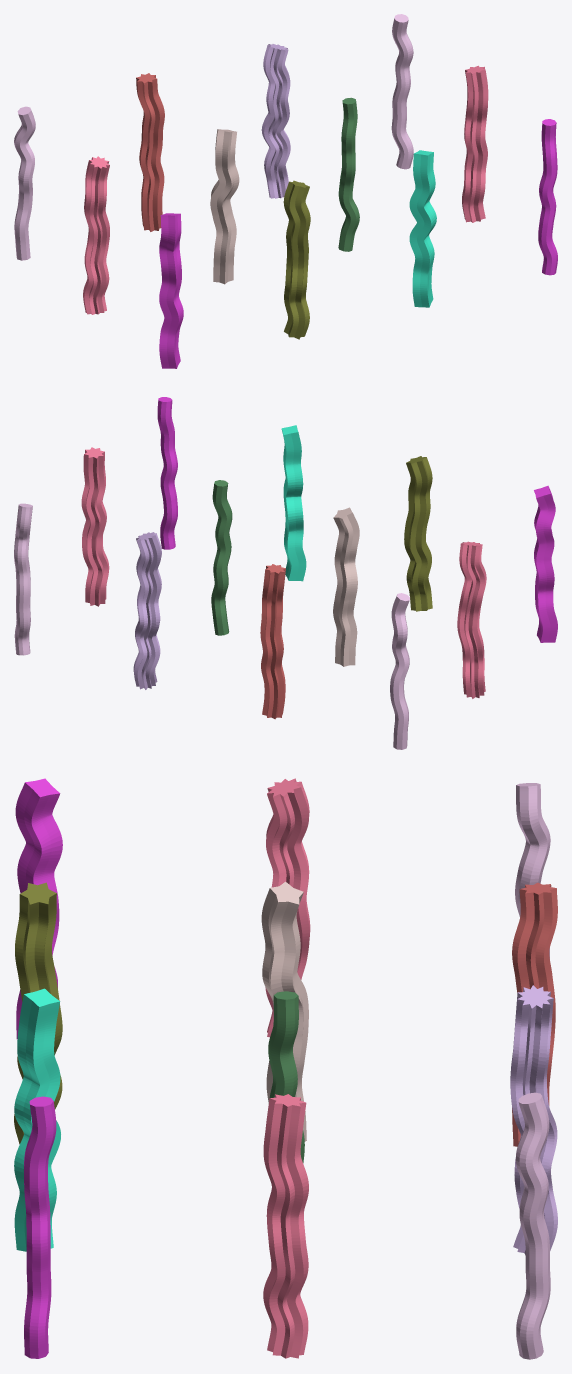
The model's file is lambert_mats_1_OpenedSplineTest_2023-06-04-21-23-00.gltf.
3 views of the same model, one above another, from view 1: azimuth 30°, elevation 25°; view 2: azimuth 150°, elevation 25°; view 3: azimuth 270°, elevation 25° (orthographic). The views are drawn at different scales.
Bounding box in the file's own units: 637 × 233 × 439.
